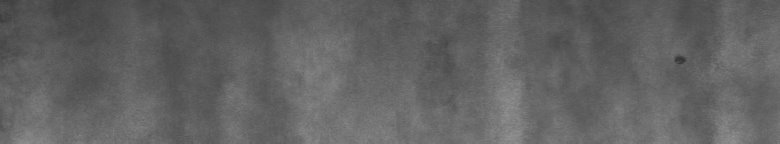fi: (670, 48, 689, 69)
